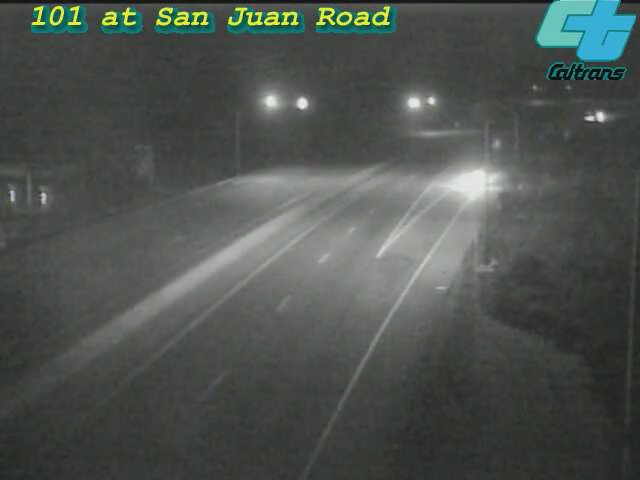vehicle: (432, 141, 512, 221), (570, 91, 620, 141)
